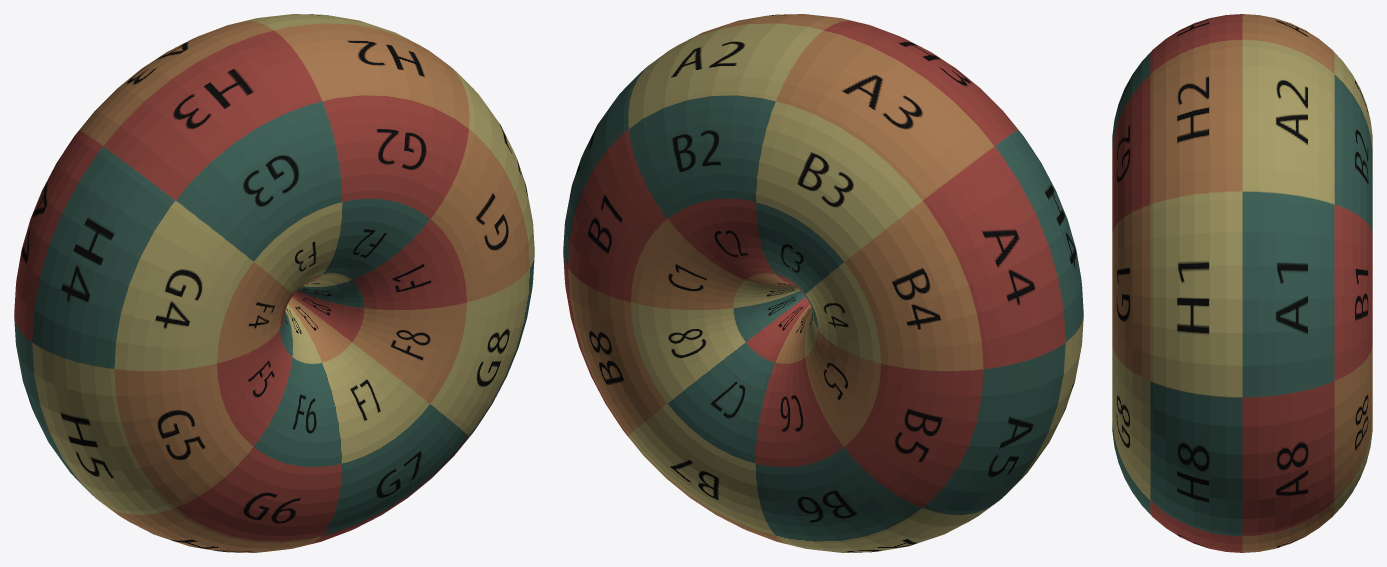
Rendered from texture_torus_R1_r30.glb.
3 views of the same model, side by side, from view 1: azimuth 30°, elevation 25°; view 2: azimuth 150°, elevation 25°; view 3: azimuth 270°, elevation 25° (orthographic). The views are drawn at different scales.
Parts seen in each view (by area): view 1: world; view 2: world; view 3: world.
Boxes of the visible parts, x1,y1,x2,y2 form: world: [14, 14, 534, 552]; world: [563, 14, 1083, 552]; world: [1112, 14, 1372, 552].
Size of the model in its own units: 20.67 by 20.63 by 9.98.
1 material, 1 textured.
